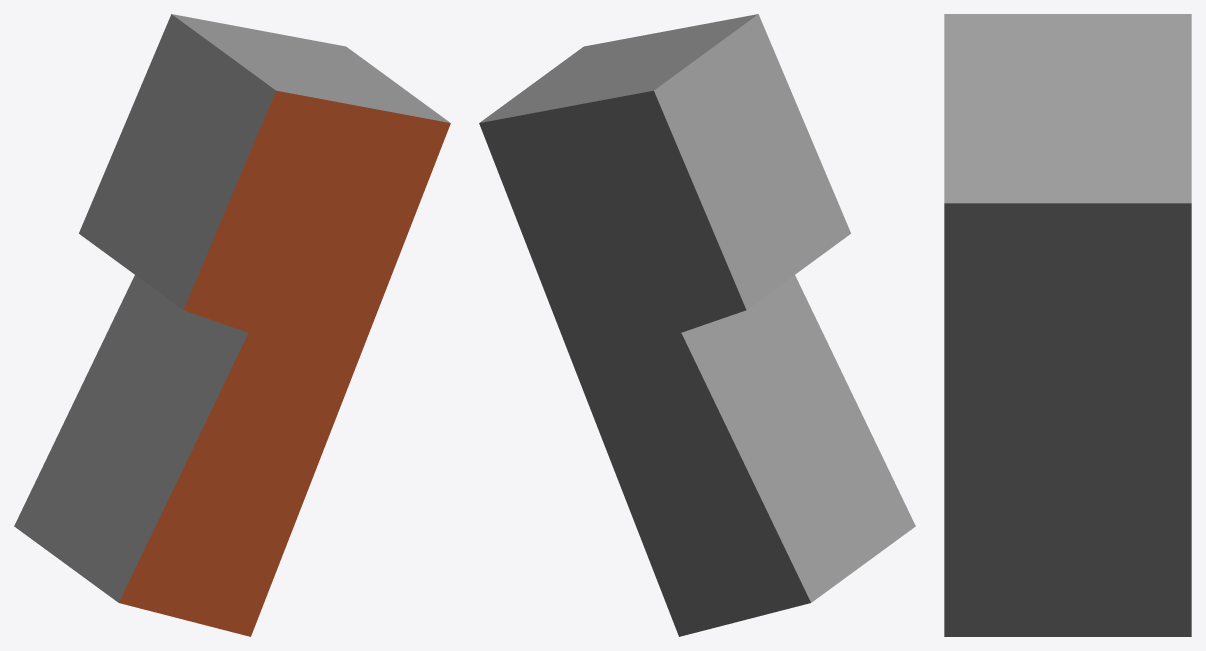
Rendered from construction_3008_assumed_A_Casa_h6m.obj.
3 views of the same model, side by side, from view 1: azimuth 30°, elevation 25°; view 2: azimuth 150°, elevation 25°; view 3: azimuth 270°, elevation 25° (orthographic). The views are drawn at different scales.
Parts seen in each view (by area): view 1: construction_3008_assumed_A_Casa; view 2: construction_3008_assumed_A_Casa; view 3: construction_3008_assumed_A_Casa.
Boxes of the visible parts, x1,y1,x2,y2 form: construction_3008_assumed_A_Casa: (14, 14, 450, 636); construction_3008_assumed_A_Casa: (479, 14, 915, 636); construction_3008_assumed_A_Casa: (944, 14, 1191, 636).
Size of the model in its own units: 10.99 by 17.08 by 6.
